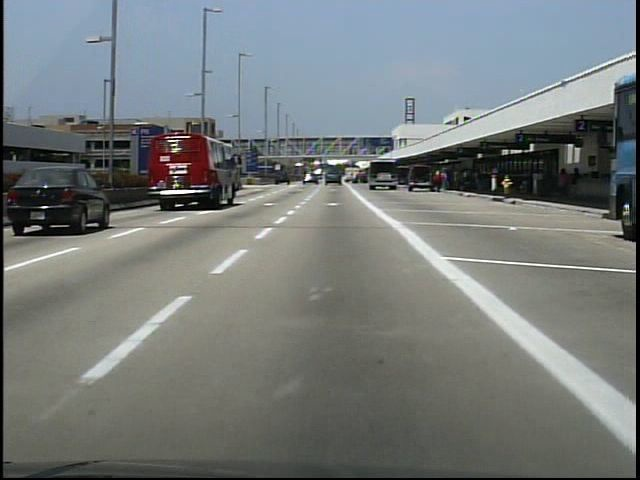person: (436, 172, 446, 197)
